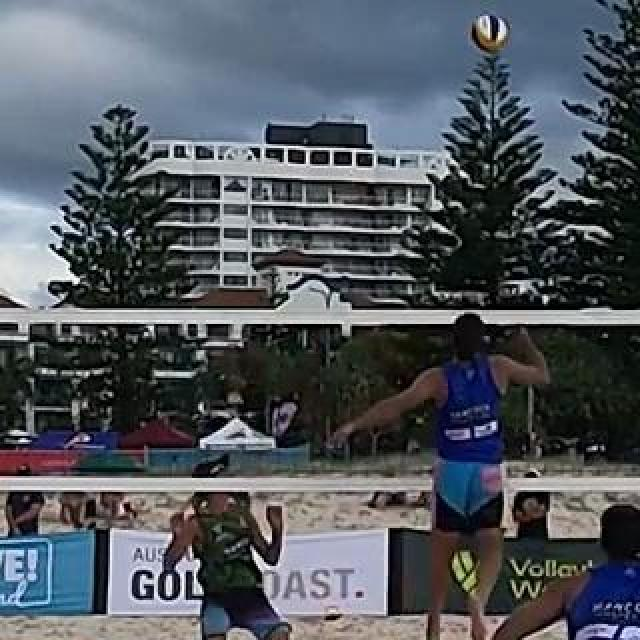volleyball: (472, 14, 510, 50), (322, 603, 344, 623)
